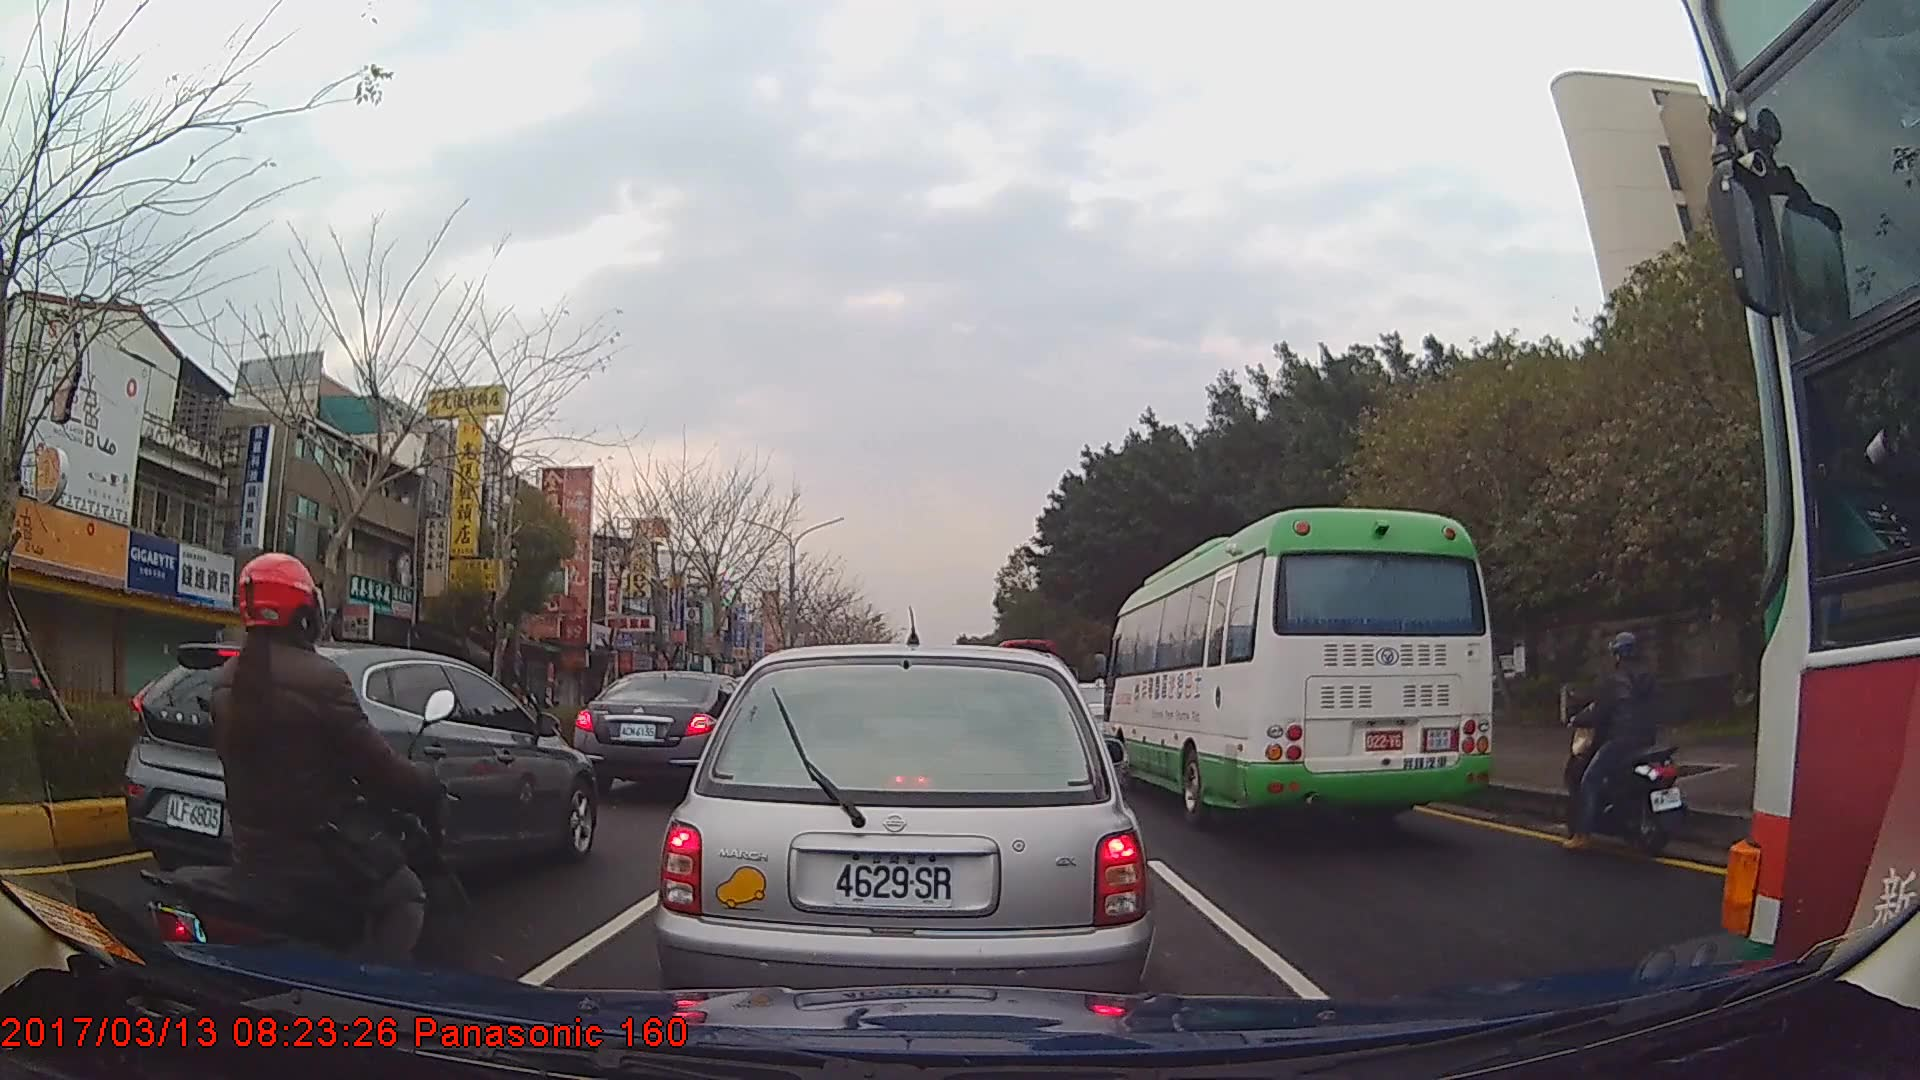rider: (194, 546, 459, 1043), (1560, 629, 1681, 856)
vehicle: (656, 640, 1161, 1038), (123, 644, 596, 921), (1103, 504, 1494, 823), (573, 669, 759, 803)
